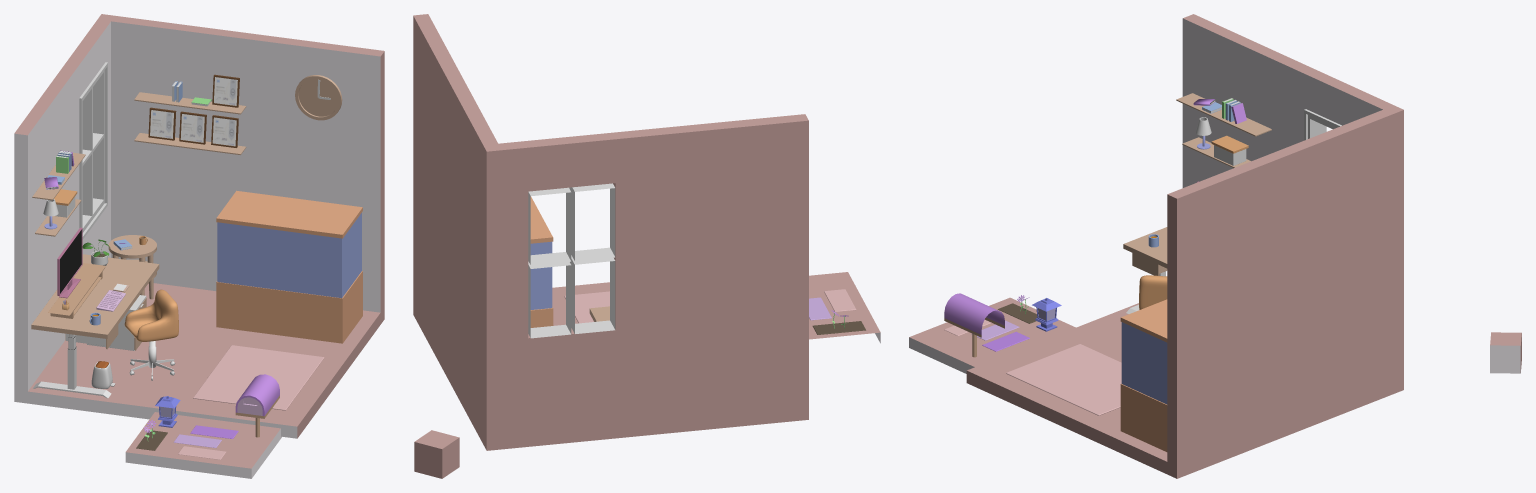
The picture shows the model from 3 angles, left to right: view 1: azimuth 30°, elevation 25°; view 2: azimuth 150°, elevation 25°; view 3: azimuth 270°, elevation 25°; orthographic projection. The views are drawn at different scales.
Visible parts, largest first — view 1: Body, Aquarium, Shelves (×3), Desks, Floor Items, Mini Floor, Table Stuff, Chair, Clock, Mailbox, Computer, Shelves222 (+5 smaller); view 2: Body, Mini Floor, Aquarium, Cube, Floor Items, Dirt, FloorThird; view 3: Body, Aquarium, Floor Items, Mini Floor, Shelves, Mailbox, Desks, Cube, Chair, Lamp.
Boxes of the visible parts, x1,y1,x2,y2 form: Body: [14, 14, 384, 438]; Aquarium: [216, 190, 362, 343]; Shelves (×3): [32, 74, 246, 236]; Desks: [31, 235, 159, 398]; Floor Items: [87, 295, 324, 410]; Mini Floor: [125, 412, 281, 478]; Table Stuff: [48, 236, 147, 325]; Chair: [124, 289, 178, 341]; Clock: [295, 75, 342, 120]; Mailbox: [235, 374, 279, 437]; Computer: [57, 227, 82, 298]; Shelves222: [211, 115, 238, 147]; Body: [413, 14, 808, 450]; Mini Floor: [809, 272, 880, 343]; Aquarium: [530, 196, 553, 327]; Cube: [414, 430, 459, 478]; Floor Items: [564, 291, 609, 323]; Dirt: [812, 321, 865, 334]; FloorThird: [824, 289, 856, 311]; Body: [966, 14, 1403, 478]; Aquarium: [1120, 299, 1167, 451]; Floor Items: [1006, 344, 1121, 415]; Mini Floor: [909, 297, 1075, 373]; Shelves: [1176, 93, 1271, 167]; Mailbox: [944, 293, 1004, 357]; Desks: [1123, 227, 1167, 313]; Cube: [1490, 332, 1521, 373]; Chair: [1139, 275, 1167, 309]; Lamp: [1032, 298, 1061, 331].
Size of the model in its own units: 27.58 by 19.65 by 38.64.
Materials: 48 (4 with a texture image).
